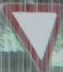Give way: (1, 0, 58, 66)
